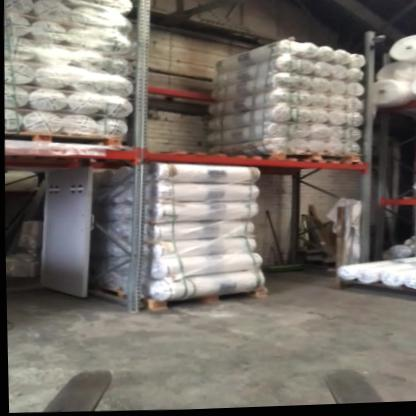vertical_damage: (123, 276, 159, 315)
